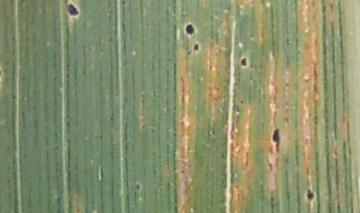tarspot: (272, 127, 280, 153), (66, 2, 79, 17), (184, 22, 196, 36), (305, 188, 313, 201), (241, 57, 248, 67), (135, 182, 141, 191), (194, 44, 199, 51), (239, 98, 244, 105)
